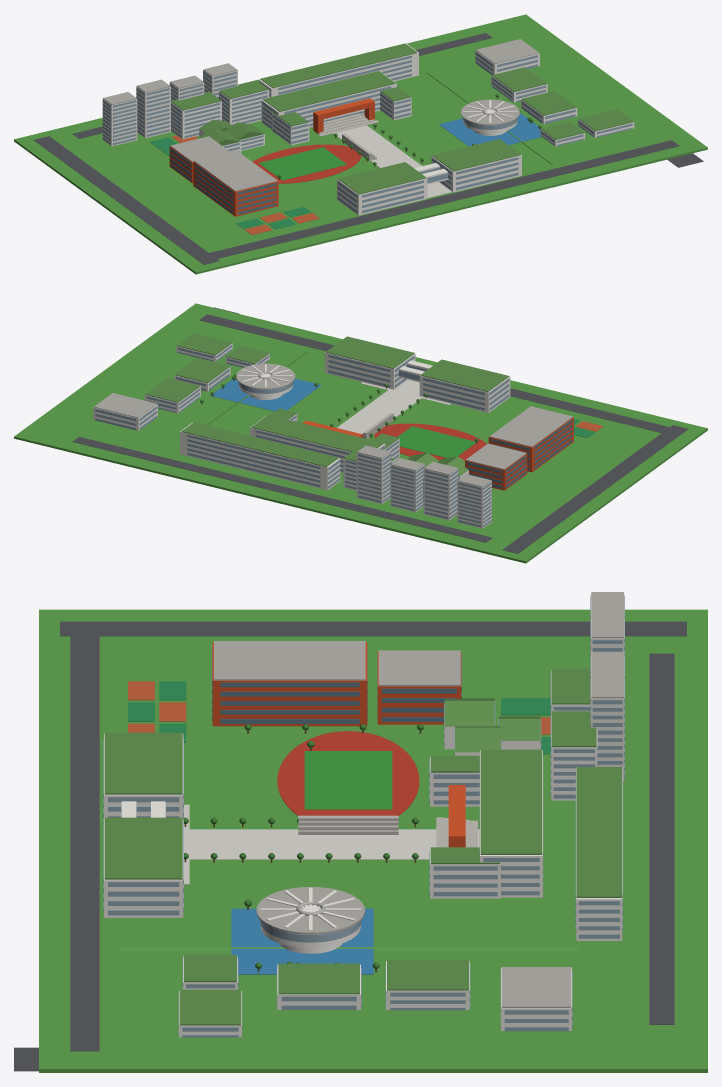
The model's file is campus.glb.
The picture shows the model from 3 angles, top to bottom: view 1: azimuth 30°, elevation 25°; view 2: azimuth 150°, elevation 25°; view 3: azimuth 270°, elevation 25°; orthographic projection. The views are drawn at different scales.
Parts seen in each view (by area): view 1: ground, road_south, road_west, 图文信息中心_主_roof, 北教学楼_roof, 红色实训楼A_roof, 田径场_草坪, 前教学楼_东_roof, plaza_axis, 前教学楼_西_roof, 田径场_跑道, 红色实训楼A_body (+24 smaller); view 2: ground, road_north, road_west, 北教学楼_body, road_south, 北教学楼_roof, 图文信息中心_主_roof, 红色实训楼A_roof, plaza_axis, 前教学楼_西_roof, 前教学楼_东_roof, 田径场_草坪 (+19 smaller); view 3: ground, road_south, road_north, road_west, plaza_axis, 图文信息中心_主_roof, 红色实训楼A_roof, 北教学楼_roof, 田径场_草坪, 田径场_跑道, 前教学楼_西_roof, 前教学楼_东_roof (+38 smaller).
Boxes of the visible parts, x1,y1,x2,y2 form: ground: (14,14,707,274); road_south: (199,140,679,261); road_west: (33,136,219,264); 图文信息中心_主_roof: (263,71,395,111); 北教学楼_roof: (260,43,417,88); 红色实训楼A_roof: (194,150,277,191); 田径场_草坪: (258,147,346,180); 前教学楼_东_roof: (432,139,520,171); plaza_axis: (333,125,446,193); 前教学楼_西_roof: (337,162,426,194); 田径场_跑道: (253,144,361,183); 红色实训楼A_body: (193,161,278,216); ground: (14,303,707,563); road_north: (72,436,492,542); road_west: (502,425,688,553); 北教学楼_body: (180,422,340,490); road_south: (199,314,673,434); 北教学楼_roof: (181,422,338,467); 图文信息中心_主_roof: (251,415,383,452); 红色实训楼A_roof: (489,406,573,447); plaza_axis: (337,380,422,433); 前教学楼_西_roof: (420,359,509,391); 前教学楼_东_roof: (326,336,414,368); 田径场_草坪: (397,426,475,457); ground: (39,609,707,1072); road_south: (70,627,99,1051); road_north: (649,653,674,1024); road_west: (60,621,686,636); plaza_axis: (184,829,479,859); 图文信息中心_主_roof: (480,749,542,854); 红色实训楼A_roof: (214,641,365,680); 北教学楼_roof: (576,767,621,897); 田径场_草坪: (304,751,392,809); 田径场_跑道: (277,731,419,815); 前教学楼_西_roof: (104,732,182,794); 前教学楼_东_roof: (104,817,182,879).
Bounding box in the file's own units: 520 × 51.21 × 332.
